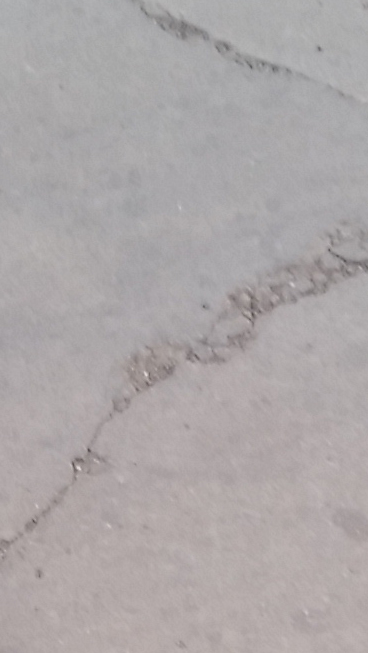A: (2, 158, 368, 567)
